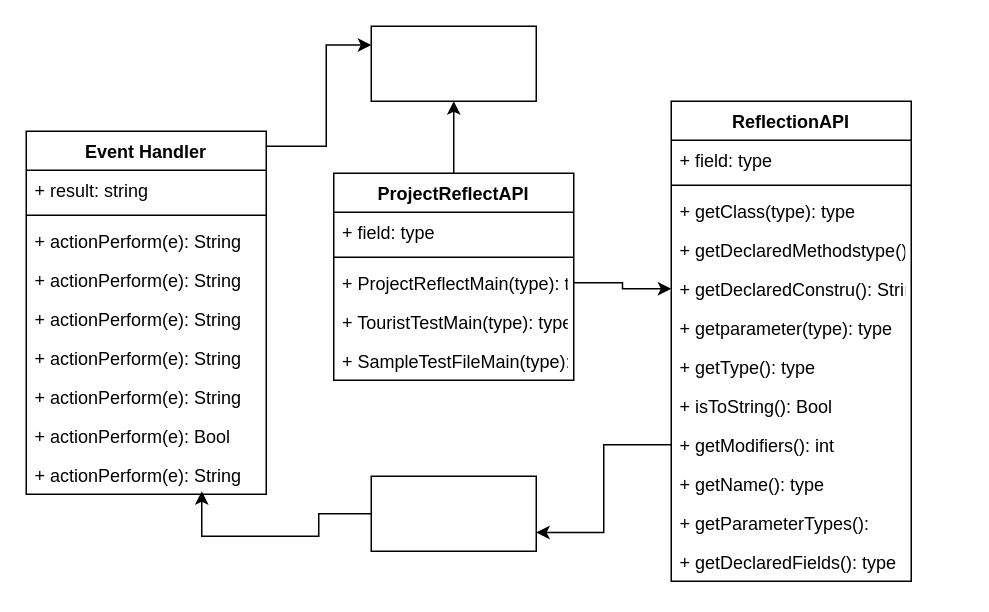
The diagram is 989 pixels wide and 612 high, and some of its shapes have lost their labels. The shapes that lost their labels are listed below. From the top down, each one's centre as x and y in pixels, then its label:
pixel 453 63: Sample Class
pixel 453 513: Generic Display GUI
